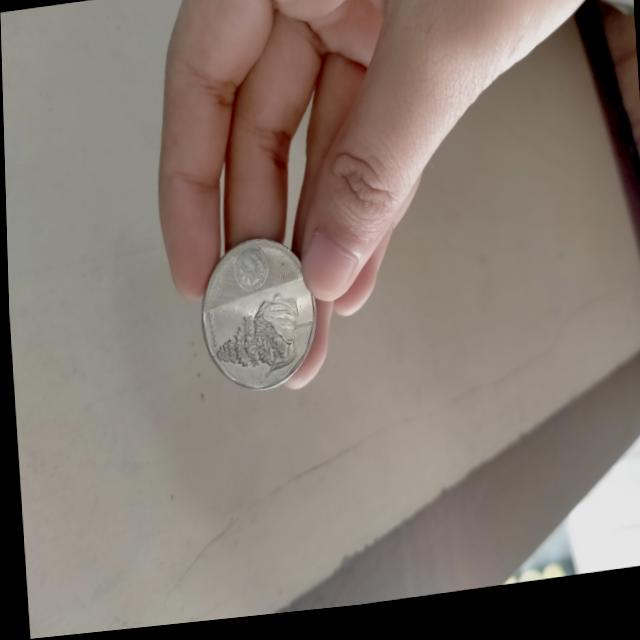10_New_Back: (197, 296, 317, 402)
